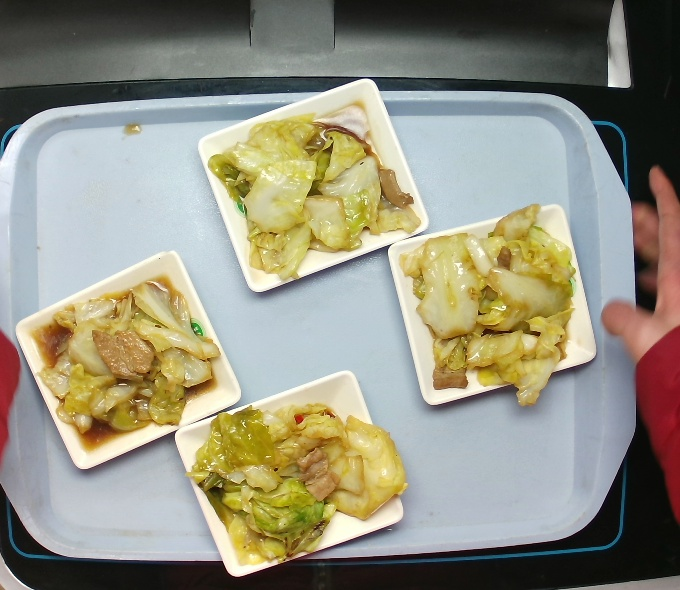wcq-JuanXinCaiChaoRou: (187, 389, 413, 580), (393, 199, 588, 420), (201, 103, 425, 281), (20, 270, 225, 462)
